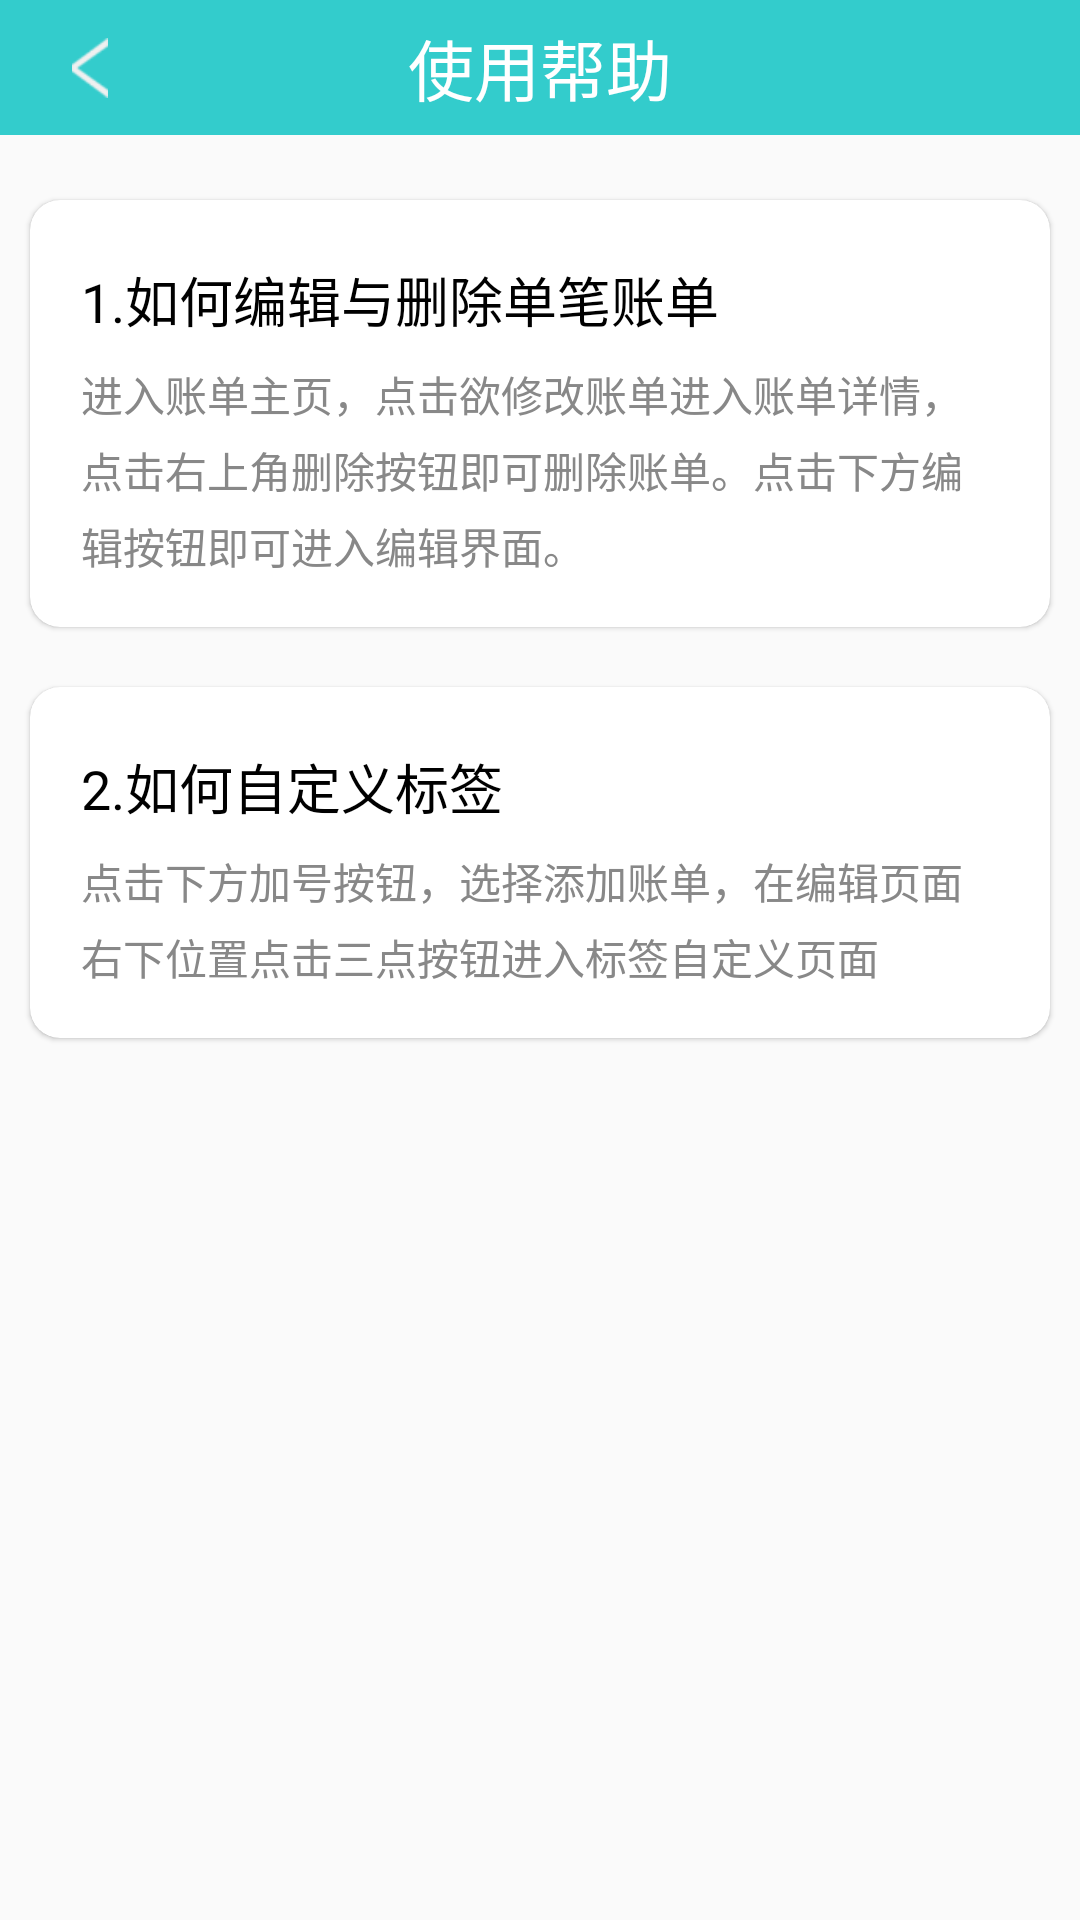

Locate icon controls on the screen. Image size 1080x1920, boxes as (x1, y1, x2, y2).
return bar: (72, 38, 108, 98)
